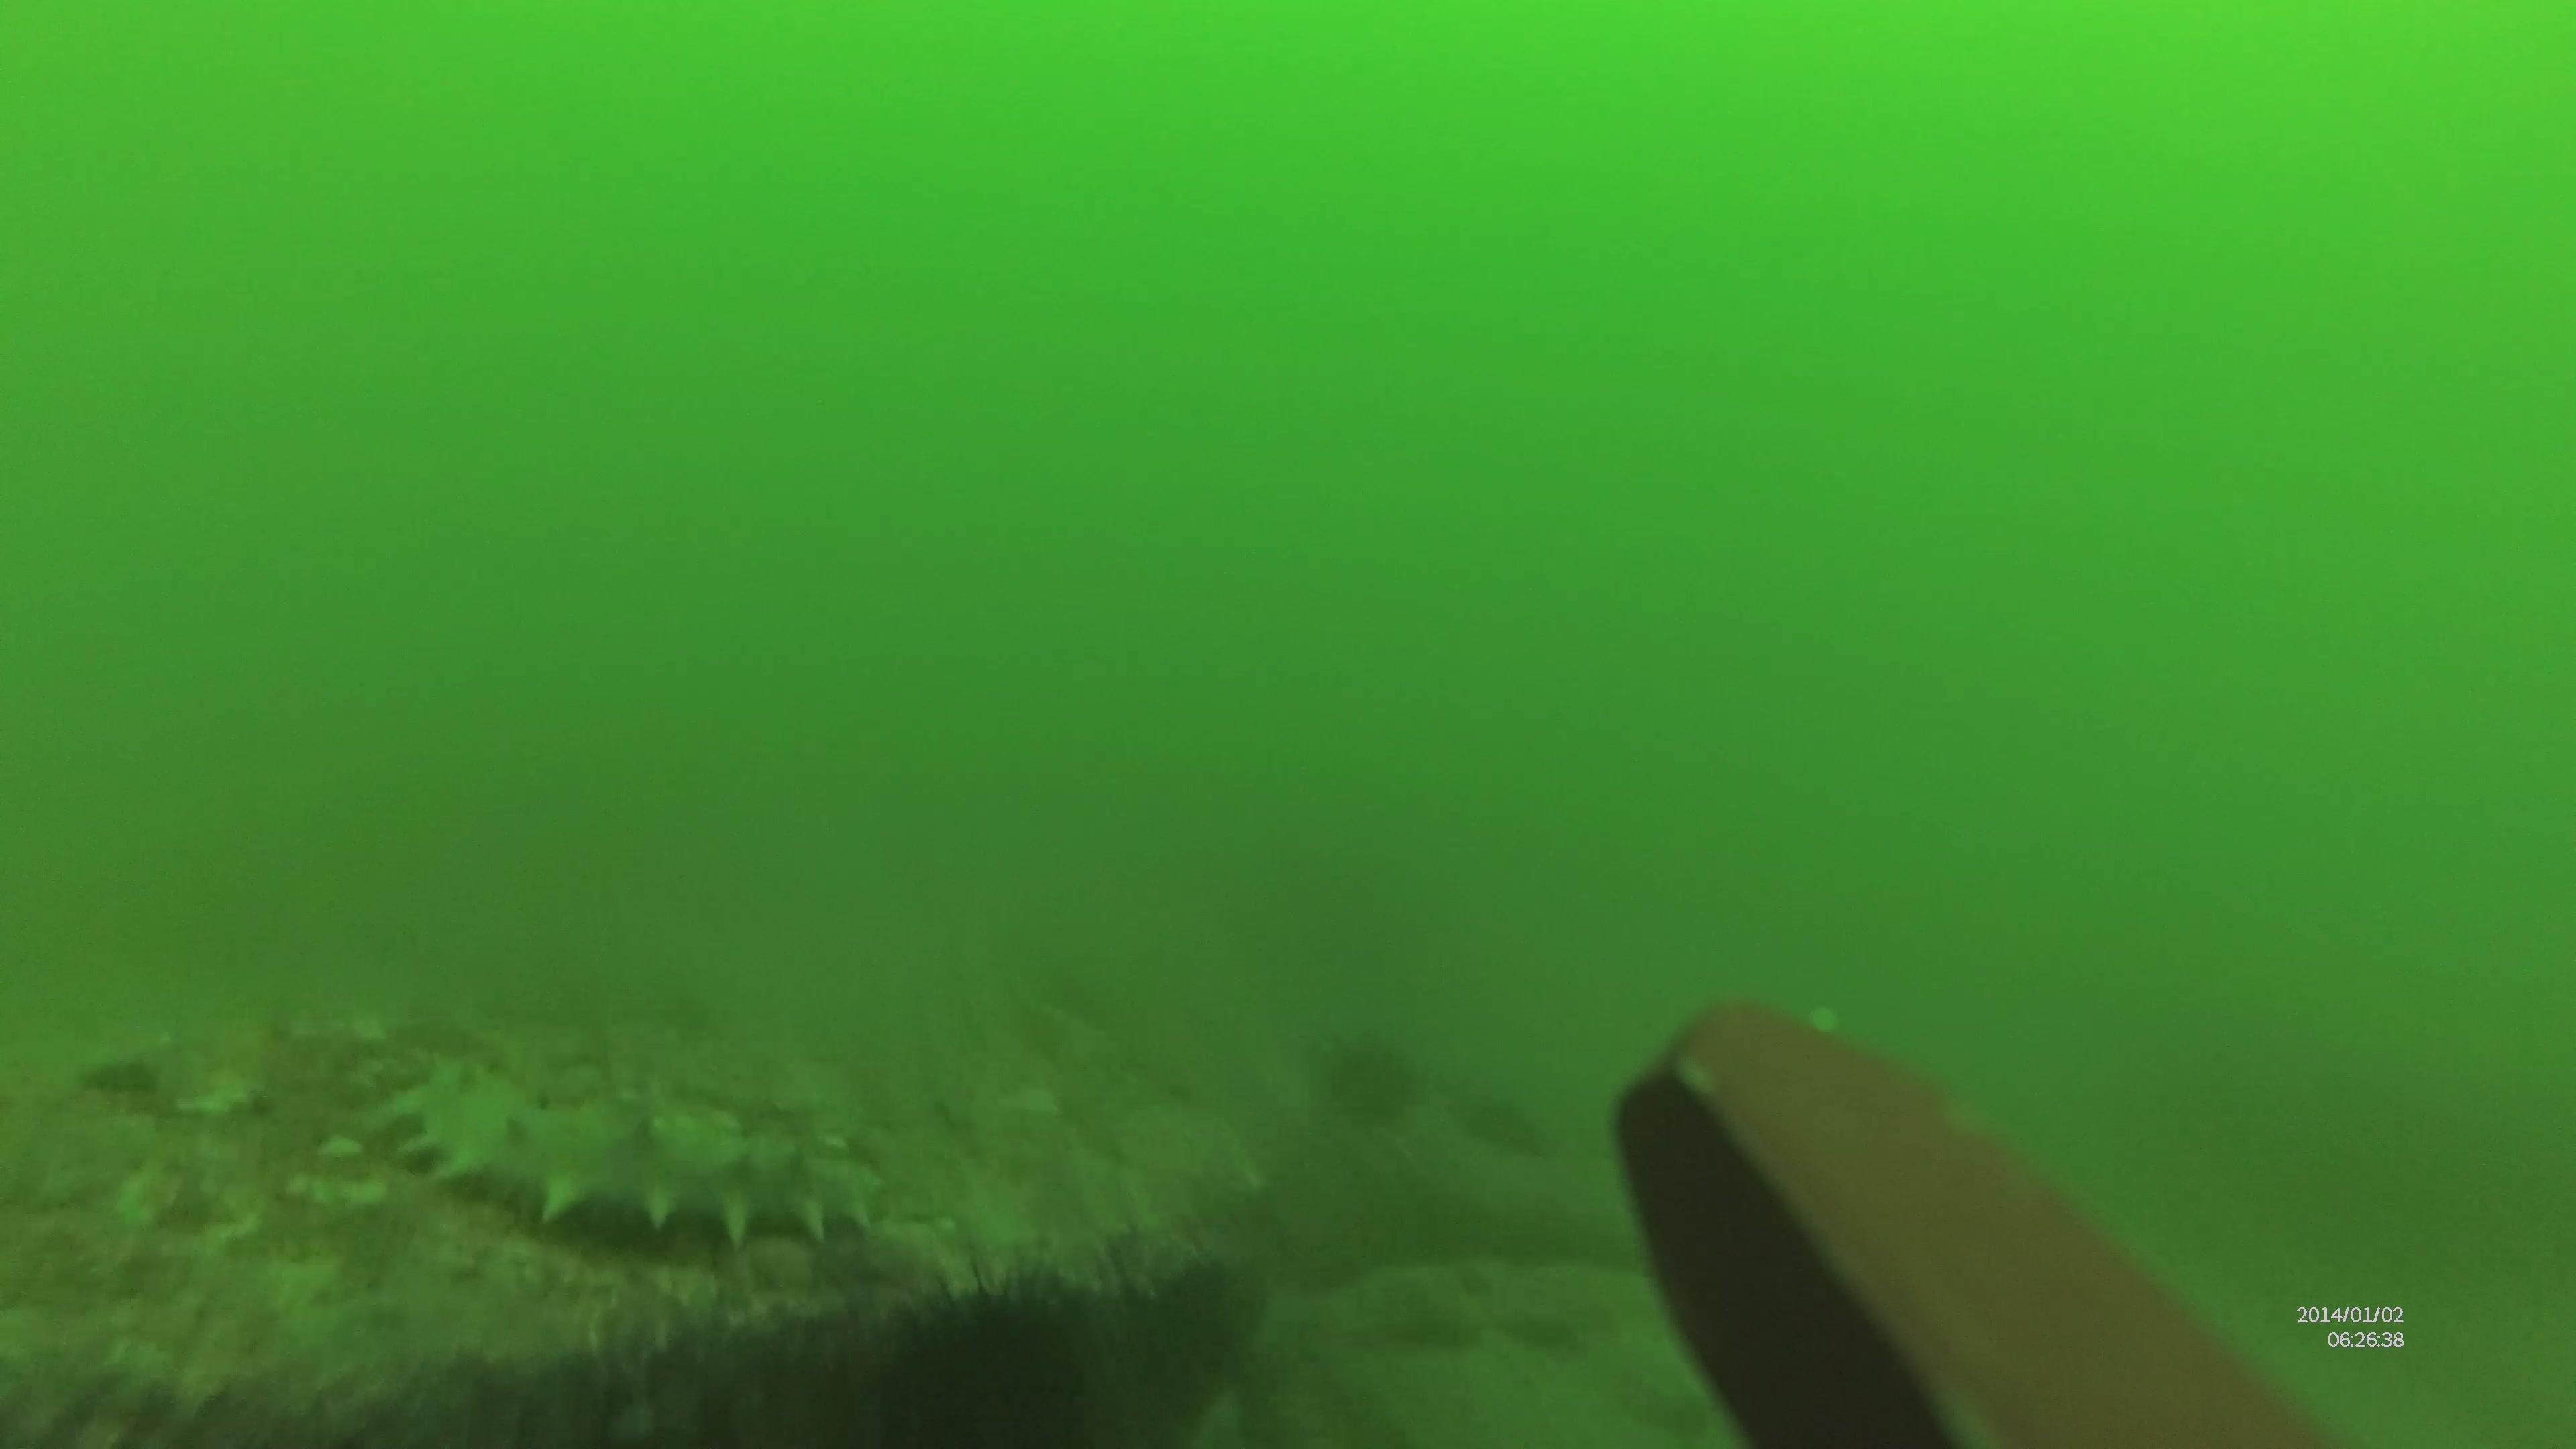echinus: (876, 1258, 1104, 1449), (1313, 1024, 1421, 1127)
holothurian: (375, 1063, 883, 1251)
